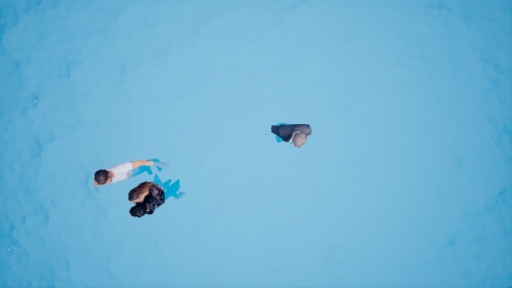person: (87, 147, 173, 184), (129, 183, 195, 223), (265, 111, 317, 152)
